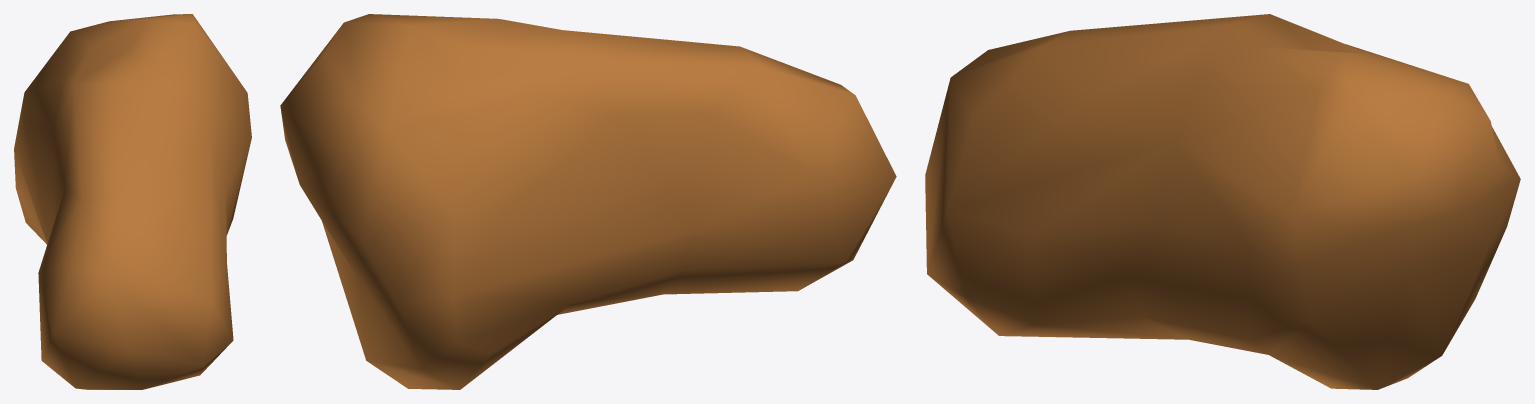
File: SoftRock_25.fbx
3 renders of one model, left to right at view 1: azimuth 30°, elevation 25°; view 2: azimuth 150°, elevation 25°; view 3: azimuth 270°, elevation 25°, orthographic. The views are drawn at different scales.
Visible parts, largest first — view 1: SoftRock_25; view 2: SoftRock_25; view 3: SoftRock_25.
Part boxes in pixels (bbox=[...]): SoftRock_25: bbox=[14, 14, 251, 389]; SoftRock_25: bbox=[280, 14, 896, 389]; SoftRock_25: bbox=[925, 14, 1520, 389].
Bounding box in the file's own units: 80.65 × 62.05 × 97.95.
